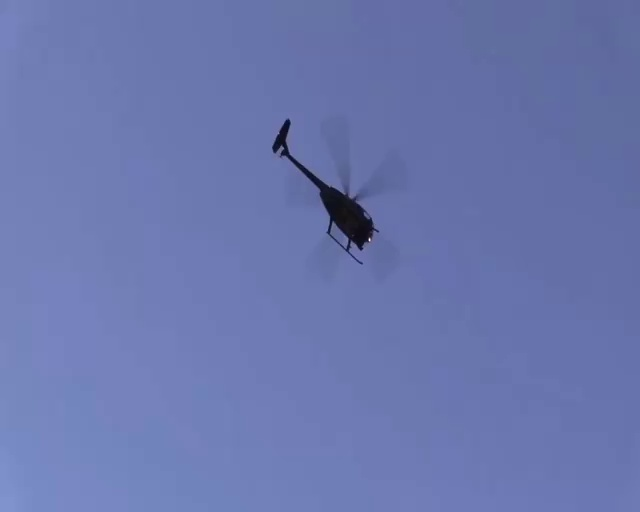HELICOPTER: (270, 114, 409, 265)
